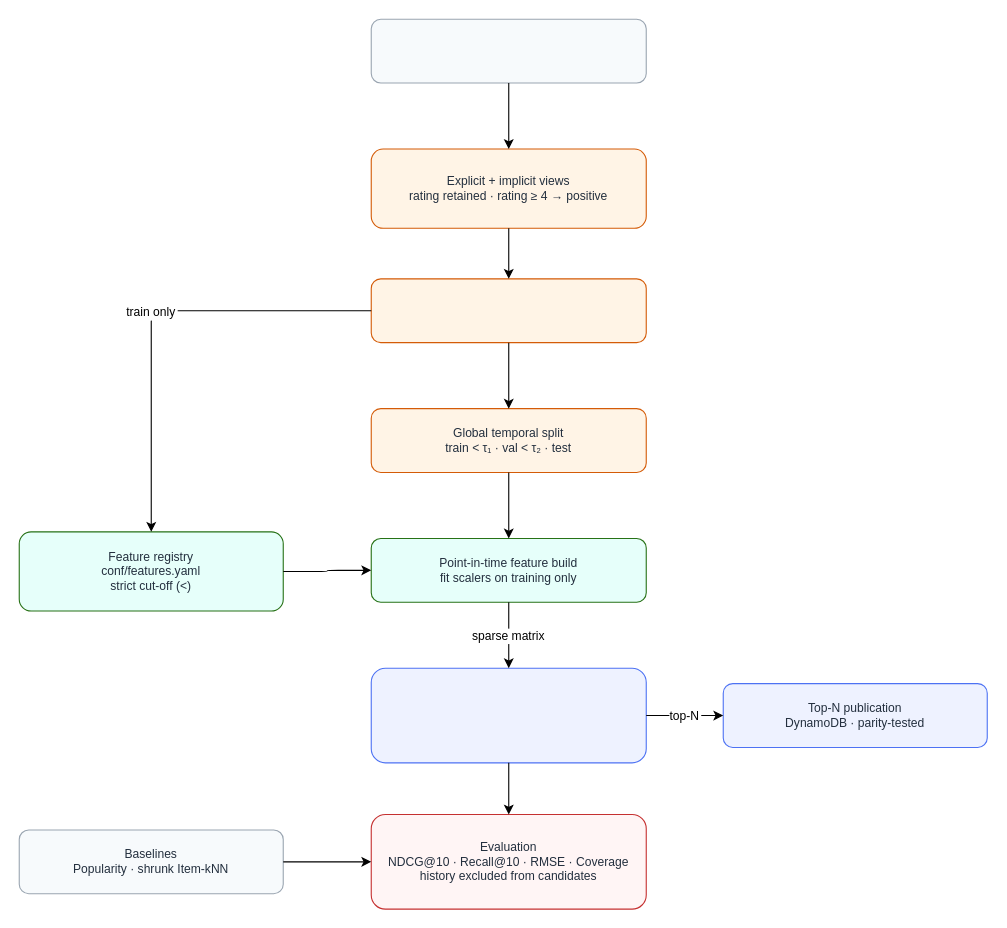
This 1007x928 diagram has some shape labels left out. The centre of each missing label's shape, as x and y in pixels:
"Iterative k-core filter ≥5 interactions per user/item" belongs at pixel 508 310.
"PureSVD X ≈ UₖΣₖVₖᵀ sparse truncated decomposition" belongs at pixel 508 715.
"Raw MovieLens ratings user · movie · rating · time" belongs at pixel 508 50.
